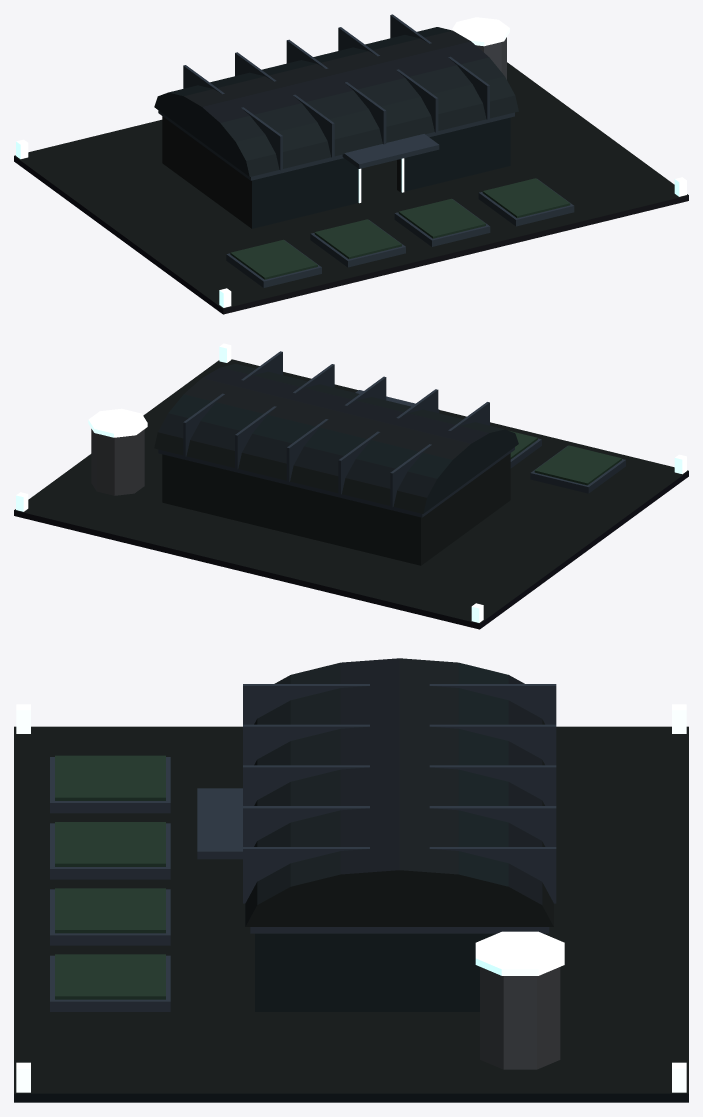
Rendered from shaddai_dist_darkforest_farm_v01.glb.
3 views of the same model, one above another, from view 1: azimuth 30°, elevation 25°; view 2: azimuth 150°, elevation 25°; view 3: azimuth 270°, elevation 25° (orthographic). The views are drawn at different scales.
Visible parts, largest first — view 1: shaddai_dist_darkforest_farm; view 2: shaddai_dist_darkforest_farm; view 3: shaddai_dist_darkforest_farm.
Boxes of the visible parts, bbox=[...] form: shaddai_dist_darkforest_farm: bbox=[14, 14, 688, 314]; shaddai_dist_darkforest_farm: bbox=[14, 343, 688, 629]; shaddai_dist_darkforest_farm: bbox=[14, 658, 688, 1102].
Bounding box in the file's own units: 36 × 7.1 × 28.
